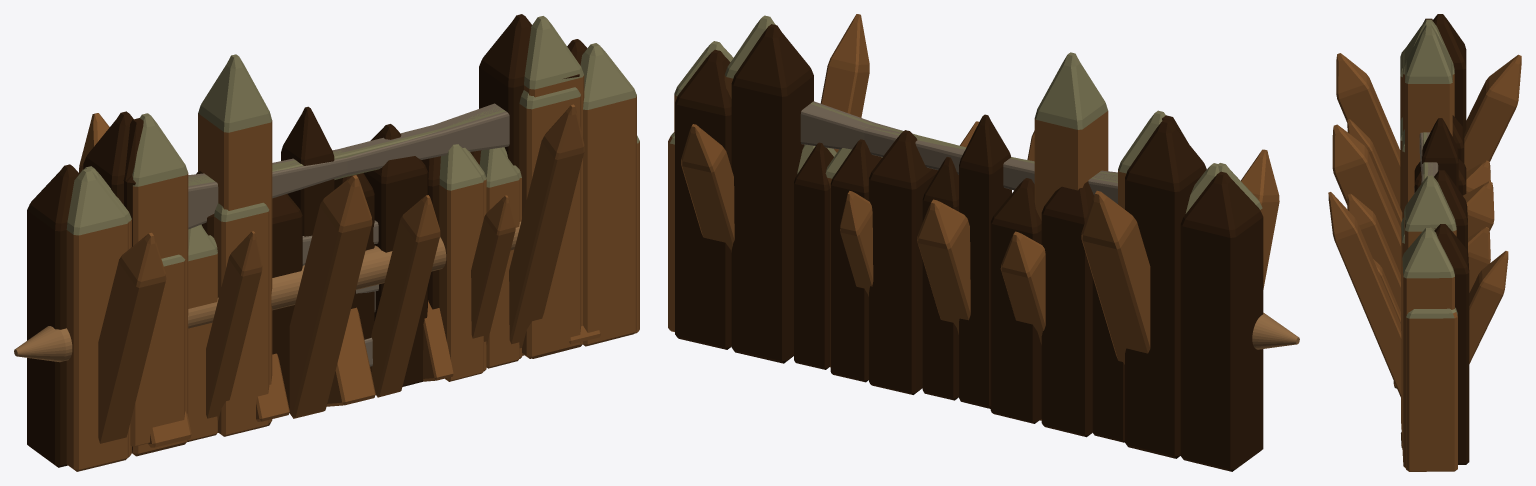
File: fence7.fbx
The picture shows the model from 3 angles, left to right: view 1: azimuth 30°, elevation 25°; view 2: azimuth 150°, elevation 25°; view 3: azimuth 270°, elevation 25°; orthographic projection. The views are drawn at different scales.
Visible parts, largest first — view 1: Cube.033, Cube.042, Cube.024, Cube.012, Cube.003, Cylinder, Cube.001, Cube.005, Cube; view 2: Cube.024, Cube.042, Cube.012, Cube.005, Cylinder, Cube.033, Cube.001; view 3: Cube.042, Cube.012, Cube.024, Cube.033.
Part boxes in pixels (x1,y1,x2,y2): Cube.033: [66, 43, 636, 471]; Cube.042: [79, 104, 600, 447]; Cube.024: [27, 14, 587, 467]; Cube.012: [84, 16, 639, 457]; Cube.003: [188, 111, 509, 293]; Cylinder: [14, 221, 520, 362]; Cube.001: [188, 106, 505, 186]; Cube.005: [188, 103, 503, 182]; Cube: [124, 118, 143, 206]; Cube.024: [675, 24, 1263, 471]; Cube.042: [681, 14, 1279, 364]; Cube.012: [668, 15, 1219, 420]; Cube.005: [800, 104, 1117, 203]; Cylinder: [1252, 312, 1299, 349]; Cube.033: [674, 41, 1262, 214]; Cube.001: [810, 102, 1117, 182]; Cube.042: [1328, 53, 1521, 448]; Cube.012: [1403, 19, 1457, 471]; Cube.024: [1414, 14, 1469, 464]; Cube.033: [1400, 49, 1454, 468].
Size of the model in its own units: 534 by 305 by 180.
